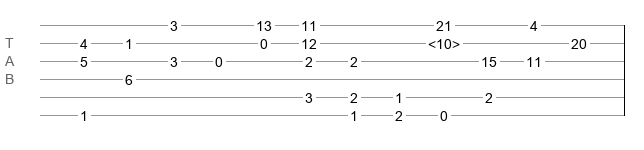0: (215, 54, 223, 64), (260, 36, 268, 46), (440, 108, 448, 118)
1: (80, 108, 88, 118), (125, 36, 133, 46), (350, 108, 358, 118), (395, 90, 403, 100)
11: (301, 18, 317, 28), (526, 54, 542, 64)
12: (301, 36, 317, 46)
13: (256, 18, 272, 28)
15: (481, 54, 497, 64)
2: (305, 54, 313, 64), (350, 90, 358, 100), (350, 54, 358, 64), (395, 108, 403, 118), (485, 90, 493, 100)
20: (571, 36, 587, 46)
21: (436, 18, 452, 28)
3: (170, 18, 178, 28), (170, 54, 178, 64), (305, 90, 313, 100)
4: (80, 36, 88, 46), (530, 18, 538, 28)
5: (80, 54, 88, 64)
6: (125, 72, 133, 82)
harmonic: (428, 36, 460, 46)
